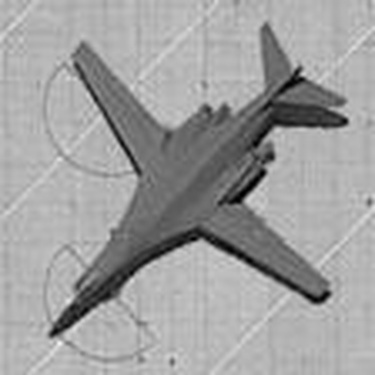airplane: (39, 9, 351, 352)
